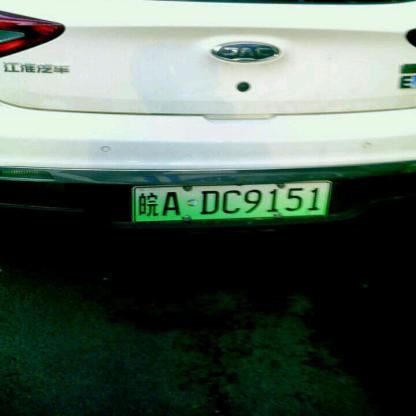lp: (132, 180, 330, 222)
